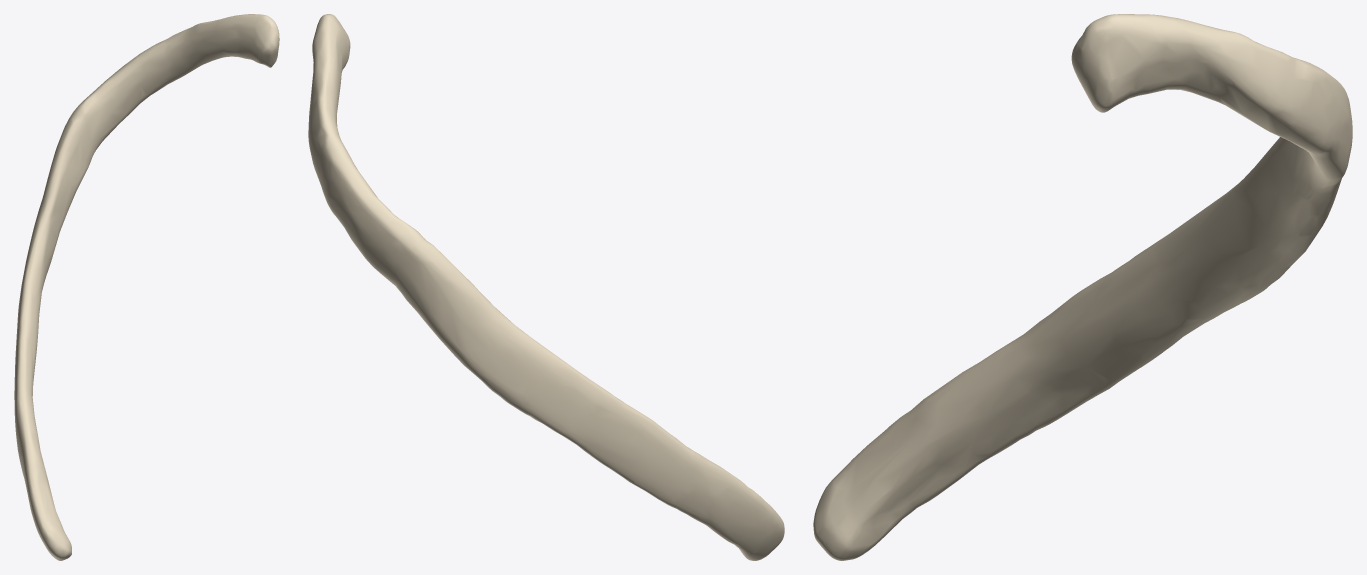
File: eleventh-rib-r.glb
The picture shows the model from 3 angles, left to right: view 1: azimuth 30°, elevation 25°; view 2: azimuth 150°, elevation 25°; view 3: azimuth 270°, elevation 25°; orthographic projection. The views are drawn at different scales.
Visible parts, largest first — view 1: Eleventh rib.r; view 2: Eleventh rib.r; view 3: Eleventh rib.r.
Boxes of the visible parts, x1=… form: Eleventh rib.r: x1=14, y1=14, x2=279, y2=560; Eleventh rib.r: x1=308, y1=14, x2=784, y2=560; Eleventh rib.r: x1=813, y1=14, x2=1352, y2=560.
Size of the model in its own units: 0.0998 by 0.132 by 0.0812.
